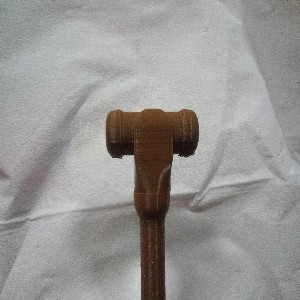palu: (106, 108, 200, 300)
